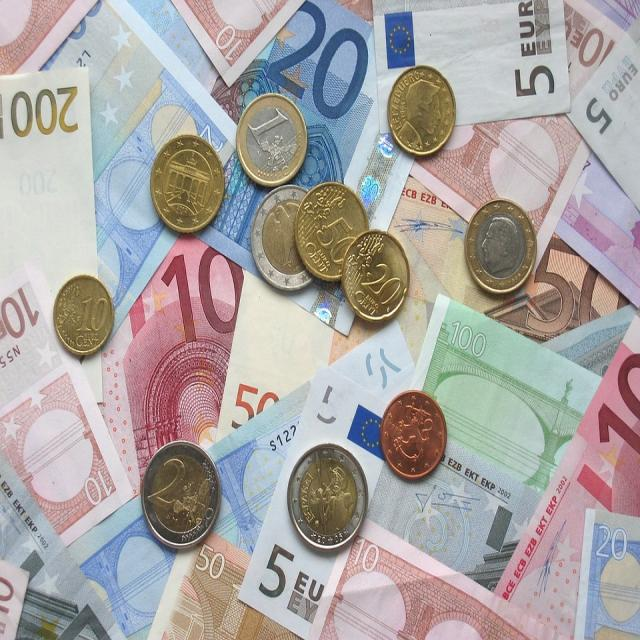10c: (51, 272, 114, 357)
1e: (463, 198, 538, 298), (236, 90, 309, 186)
20c: (387, 65, 457, 159), (343, 229, 412, 322)
2c: (381, 389, 446, 481)
2e: (287, 441, 370, 552), (138, 440, 220, 548), (250, 182, 326, 290)
50c: (150, 134, 228, 236), (293, 179, 369, 277)
